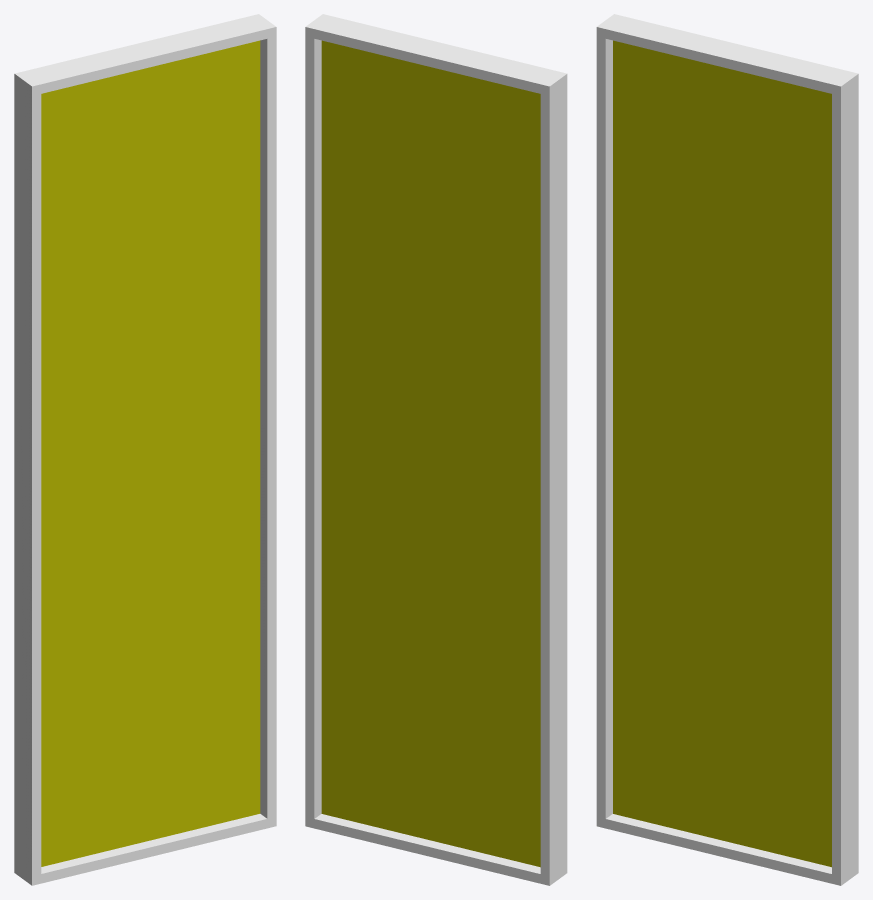
Rendered from ventana_0.80_x_2.50.obj.
3 renders of one model, left to right at view 1: azimuth 30°, elevation 25°; view 2: azimuth 150°, elevation 25°; view 3: azimuth 330°, elevation 25°, orthographic.
Visible parts, largest first — view 1: Mesh2 Panel_de_sistema___Acristalado_212264__3D_1 ventana_0_80_x, Mesh3 ventana_0_80_x_2_50_dwg1 Model, Mesh4 ventana_0_80_x_2_50_dwg1 Model; view 2: Mesh2 Panel_de_sistema___Acristalado_212264__3D_1 ventana_0_80_x, Mesh3 ventana_0_80_x_2_50_dwg1 Model, Mesh4 ventana_0_80_x_2_50_dwg1 Model; view 3: Mesh2 Panel_de_sistema___Acristalado_212264__3D_1 ventana_0_80_x, Mesh4 ventana_0_80_x_2_50_dwg1 Model, Mesh3 ventana_0_80_x_2_50_dwg1 Model.
Boxes of the visible parts, <box> form: Mesh2 Panel_de_sistema___Acristalado_212264__3D_1 ventana_0_80_x: <box>41,40,260,866</box>; Mesh3 ventana_0_80_x_2_50_dwg1 Model: <box>14,16,267,885</box>; Mesh4 ventana_0_80_x_2_50_dwg1 Model: <box>41,14,276,883</box>; Mesh2 Panel_de_sistema___Acristalado_212264__3D_1 ventana_0_80_x: <box>321,40,540,867</box>; Mesh3 ventana_0_80_x_2_50_dwg1 Model: <box>314,16,567,885</box>; Mesh4 ventana_0_80_x_2_50_dwg1 Model: <box>305,14,540,883</box>; Mesh2 Panel_de_sistema___Acristalado_212264__3D_1 ventana_0_80_x: <box>613,40,831,867</box>; Mesh4 ventana_0_80_x_2_50_dwg1 Model: <box>605,71,858,885</box>; Mesh3 ventana_0_80_x_2_50_dwg1 Model: <box>596,14,848,828</box>.
Bounding box in the file's own units: 801 × 2500 × 101.
